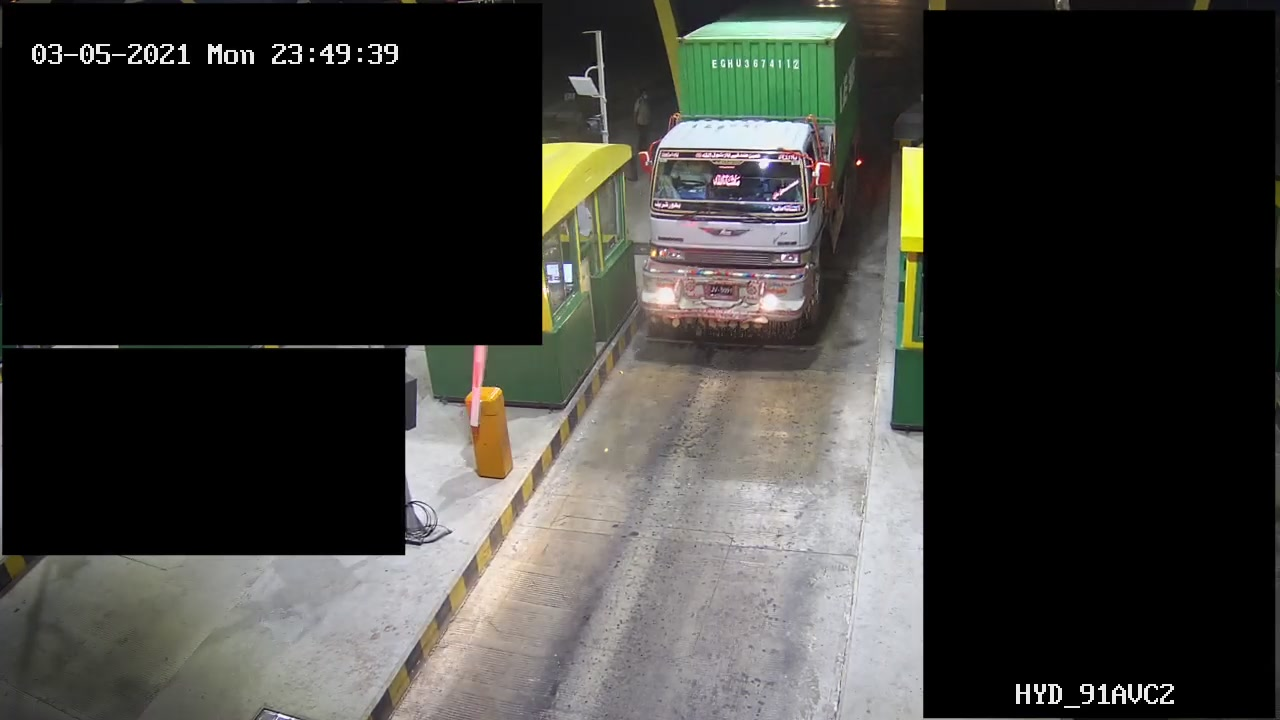F6: (636, 2, 880, 353)
